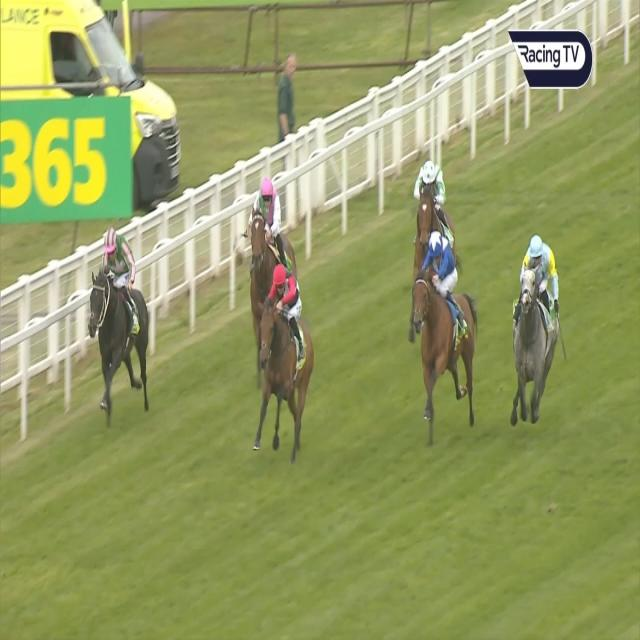horses-racing: (413, 214, 486, 442), (255, 254, 319, 452), (513, 218, 562, 457), (88, 224, 151, 409), (409, 156, 460, 284), (245, 182, 295, 310)
